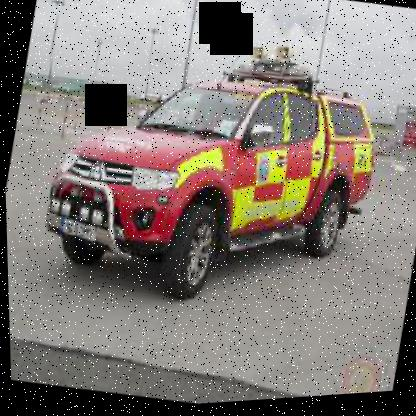emergency: (46, 0, 411, 324)
